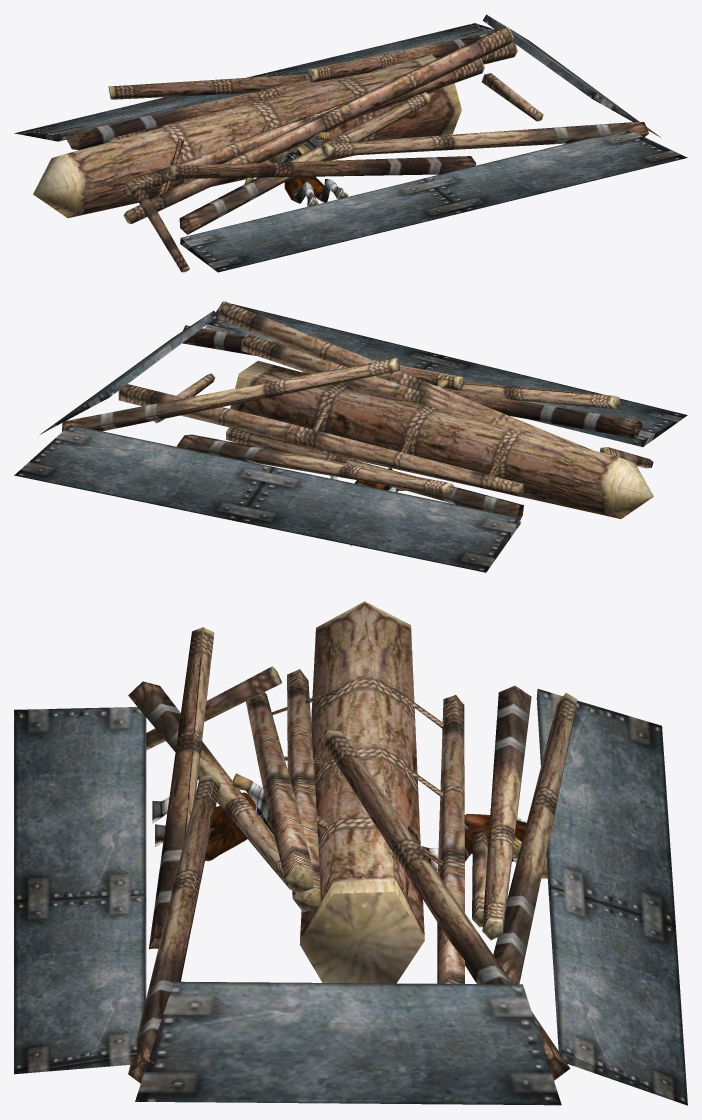
Rendered from gate_ram_destroyed_base.glb.
3 views of the same model, one above another, from view 1: azimuth 30°, elevation 25°; view 2: azimuth 150°, elevation 25°; view 3: azimuth 270°, elevation 25° (orthographic). The views are drawn at different scales.
Parts seen in each view (by area): view 1: MeshRoot; view 2: MeshRoot; view 3: MeshRoot.
Part boxes in pixels (x1,y1,x2,y2): MeshRoot: (14, 14, 687, 272); MeshRoot: (14, 301, 687, 572); MeshRoot: (14, 601, 687, 1105).
Size of the model in its own units: 18.56 by 3.9 by 12.19.
Materials: 2 (2 with a texture image).
